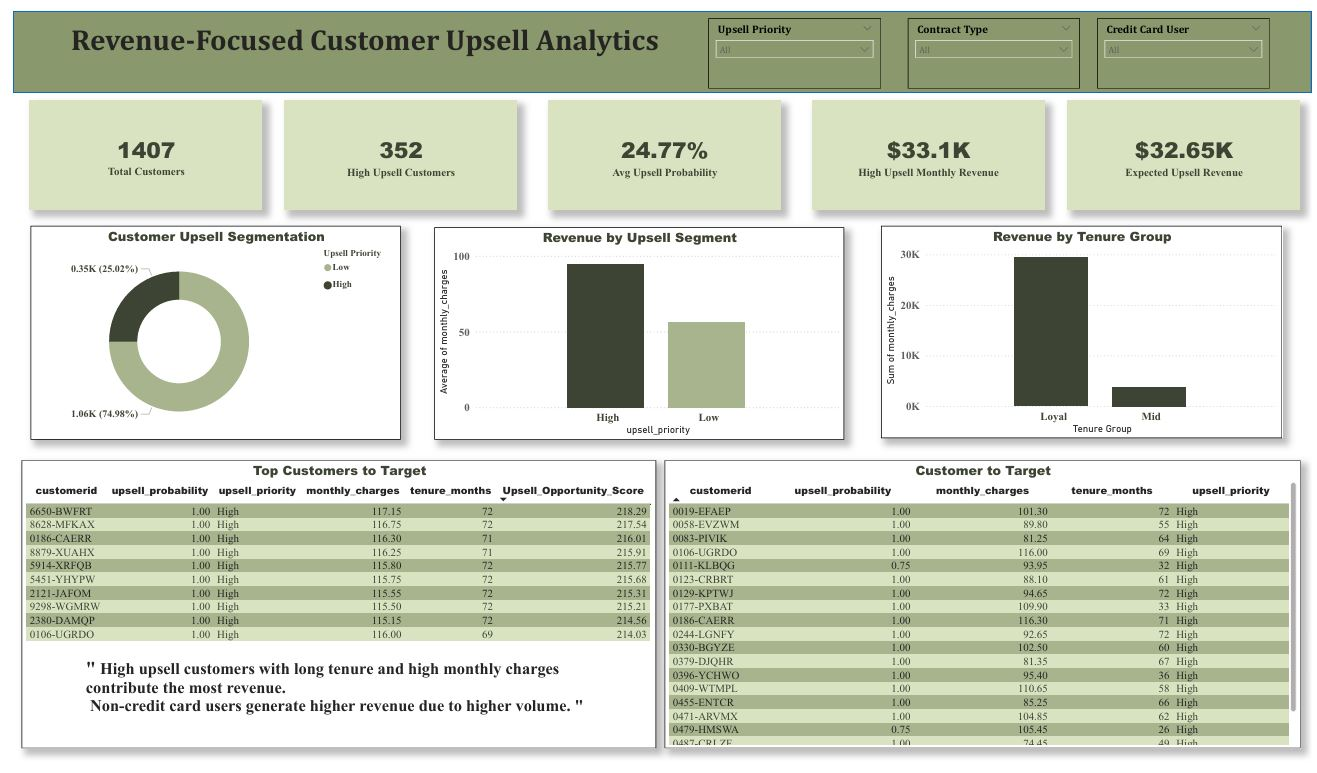

Layout of this report page (visuals, bound fields, positions):
{"tool":"powerbi","page":{"name":"Page 1","canvas":[1900,1100],"ordinal":0},"visuals":[{"type":"shape","box":[0,0,1900.4,119.2],"z":0},{"type":"card","fields":{"Values":["upsell_powerbi.Total Customers"]},"box":[23.9,131.2,341,160.2],"z":1000},{"type":"card","fields":{"Values":["upsell_powerbi.High Upsell Customers"]},"box":[396.5,131.5,341,160.3],"z":2000},{"type":"card","fields":{"Values":["upsell_powerbi.Avg Upsell Probability"]},"box":[782.8,131.5,341,160.3],"z":3000},{"type":"card","fields":{"Values":["upsell_powerbi.High Upsell Monthly Revenue"]},"box":[1169,131.5,341,160.3],"z":4000},{"type":"donutChart","title":"Customer Upsell Segmentation","fields":{"Category":["upsell_powerbi.upsell_priority"],"Y":["CountNonNull(upsell_powerbi.customerid)"]},"box":[24.7,314.3,542.4,312.3],"z":5000},{"type":"clusteredColumnChart","title":"Revenue by Upsell Segment","fields":{"Category":["upsell_powerbi.upsell_priority"],"Y":["Avg(upsell_powerbi.monthly_charges)"]},"box":[616.4,316.4,599.9,310.2],"z":6000},{"type":"tableEx","title":"Top Customers to Target","fields":{"Values":["upsell_powerbi.customerid","upsell_powerbi.upsell_probability","upsell_powerbi.upsell_priority","upsell_powerbi.monthly_charges","upsell_powerbi.tenure_months","upsell_powerbi.Upsell_Opportunity_Score"]},"box":[12.3,657.4,928.6,421.2],"z":7000},{"type":"slicer","fields":{"Values":["upsell_powerbi.Credit Card User"]},"box":[1586.1,10.3,252.7,102.7],"z":8000},{"type":"slicer","fields":{"Values":["upsell_powerbi.Contract Type"]},"box":[1308.7,10.3,252.7,102.7],"z":9000},{"type":"card","fields":{"Values":["upsell_powerbi.Expected Upsell Revenue"]},"box":[1542.9,131.5,341,160.3],"z":10000},{"type":"clusteredColumnChart","title":"Revenue by Tenure Group","fields":{"Category":["upsell_powerbi.Tenure Group"],"Y":["Sum(upsell_powerbi.monthly_charges)"]},"box":[1269.7,314.3,587.6,310.2],"z":11000},{"type":"tableEx","title":"Customer to Target","fields":{"Values":["upsell_powerbi.customerid","upsell_powerbi.upsell_probability","upsell_powerbi.monthly_charges","upsell_powerbi.tenure_months","upsell_powerbi.upsell_priority"]},"box":[953.3,657.4,930.7,421.2],"z":12000},{"type":"textbox","box":[12.3,10.3,1004.7,96.6],"z":13000},{"type":"slicer","fields":{"Values":["upsell_powerbi.upsell_priority"]},"box":[1017,10.3,252.7,102.7],"z":14000},{"type":"textbox","box":[100.7,941,815.6,104.8],"z":15000}]}

Visuals, with their boxes in screenshot pixels (x1, y1, x2, y2), scaled from the page's 1900x1100 canvas onto the 1317x773 screenshot:
shape: 0,0,1316,84
card - upsell_powerbi.Total Customers: 17,92,253,205
card - upsell_powerbi.High Upsell Customers: 275,92,511,205
card - upsell_powerbi.Avg Upsell Probability: 543,92,779,205
card - upsell_powerbi.High Upsell Monthly Revenue: 810,92,1047,205
"Customer Upsell Segmentation" donutChart: 17,221,393,440
"Revenue by Upsell Segment" clusteredColumnChart: 427,222,843,440
"Top Customers to Target" tableEx: 9,462,652,758
slicer - upsell_powerbi.Credit Card User: 1099,7,1275,79
slicer - upsell_powerbi.Contract Type: 907,7,1082,79
card - upsell_powerbi.Expected Upsell Revenue: 1069,92,1306,205
"Revenue by Tenure Group" clusteredColumnChart: 880,221,1287,439
"Customer to Target" tableEx: 661,462,1306,758
textbox: 9,7,705,75
slicer - upsell_powerbi.upsell_priority: 705,7,880,79
textbox: 70,661,635,735
